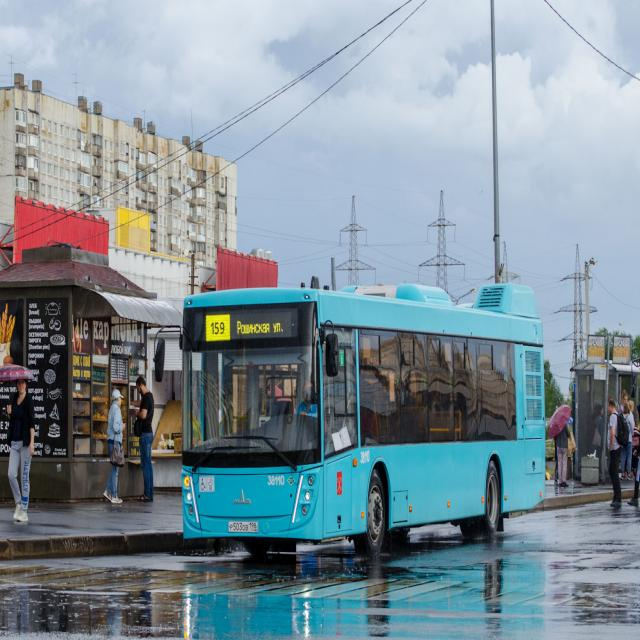number-of-bus: (210, 318, 227, 339)
